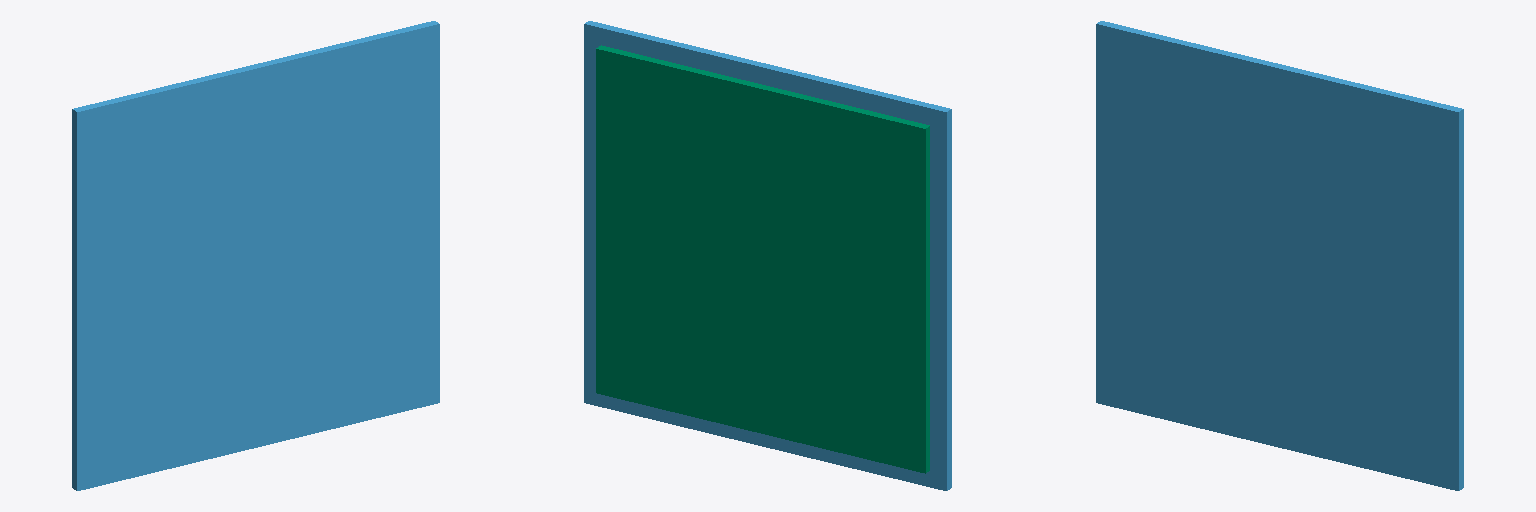
URDF robot description (canvas):
<?xml version="1.0"?>

<robot name="canvas">
  <link name="world"/>

  <joint name="attach1" type="fixed">
    <parent link="world"/>
    <child  link="back"/>
  </joint>

  <link name="back">
    <inertial>
      <origin xyz="0 0 0" />
      <mass value="1.0" />
      <inertia  ixx="1.0" ixy="0.0"  ixz="0.0"  iyy="100.0"  iyz="0.0"  izz="1.0" />
    </inertial>
    <visual>
      <origin xyz="0 -0.075 0"/>
      <geometry>
        <box size="2.2 0.05 2.2" />
      </geometry>
    </visual>
    <collision>
      <origin xyz="0 -0.075 0"/>
      <geometry>
        <box size="2.2 0.05 2.2" />
      </geometry>
    </collision>
  </link>
  <gazebo reference="back">
    <material>Gazebo/Black</material>
  </gazebo>

  <joint name="spring" type="prismatic">
    <parent link="back"/>
    <child link="front"/>
    <limit effort="1000.0" lower="0" upper="0" velocity="0.5"/>
    <origin rpy="0 0 0" xyz="0 0 0"/>
    <axis xyz="0 1 0"/>
  </joint>

  <!-- <joint name="spring" type="fixed">
    <parent link="back"/>
    <child  link="front"/>
  </joint> -->

  <link name="front">
    <inertial>
      <origin xyz="0 0 0" />
      <mass value="1.0" />
      <inertia  ixx="1.0" ixy="0.0"  ixz="0.0"  iyy="100.0"  iyz="0.0"  izz="1.0" />
    </inertial>
    <visual>
      <origin xyz="0 -0.025 0"/>
      <geometry>
        <box size="2 0.05 2" />
      </geometry>
    </visual>
    <collision>
      <origin xyz="0 -0.025 0"/>
      <geometry>
        <box size="2 0.05 2" />
      </geometry>
    </collision>
  </link>
  <gazebo reference="front">
    <mu1>0.01</mu1>
    <mu2>0.02</mu2>
    <material>Gazebo/White</material>
  </gazebo>




</robot>

--- What the picture shows (computed from the rendered views, not written in the file) ---
Views: 3 orthographic renders of the robot side by side, from view 1: azimuth 30°, elevation 25°; view 2: azimuth 150°, elevation 25°; view 3: azimuth 330°, elevation 25°.
Model canvas with 3 links and 2 joints (1 prismatic, 1 fixed), rooted at world, posed all joints at 0.
Links seen in each view (by area): view 1: back; view 2: front, back; view 3: back.
Boxes of the visible links, <box> form: back: <box>72,21,439,490</box>; front: <box>596,45,929,473</box>; back: <box>584,21,951,490</box>; back: <box>1096,21,1463,490</box>.
Size in the robot's own frame: 2.2 by 0.1 by 2.2 metres.
Geometry: primitives only (box / cylinder / sphere), no mesh files.